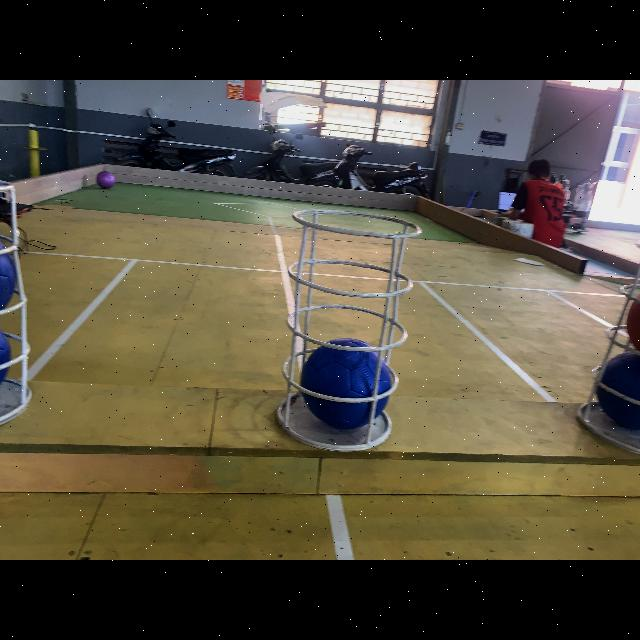B: (299, 332, 391, 434), (594, 352, 640, 426)
